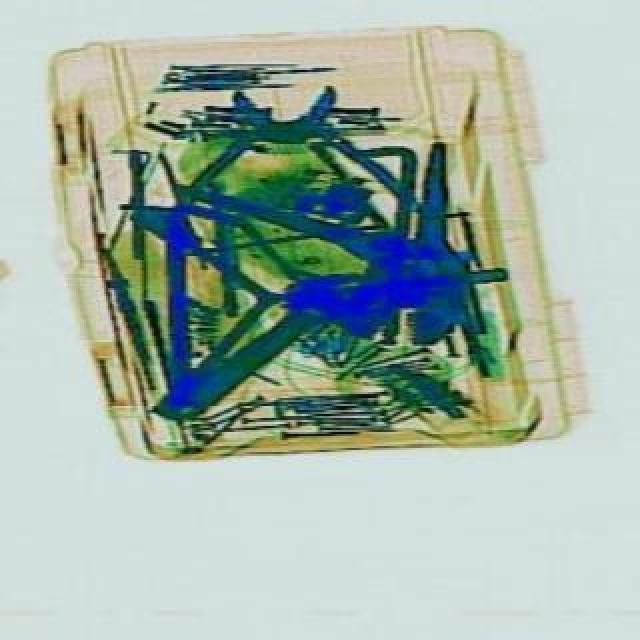wrench: (158, 80, 416, 228)
